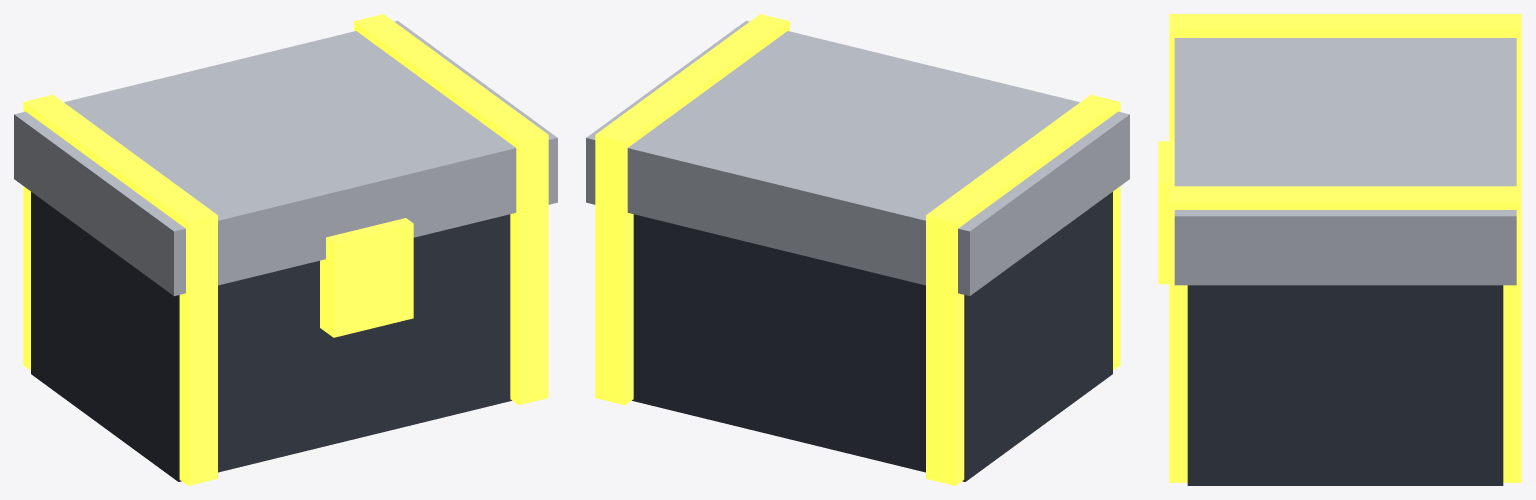
Rendered from chest.fbx.
3 renders of one model, left to right at view 1: azimuth 30°, elevation 25°; view 2: azimuth 150°, elevation 25°; view 3: azimuth 270°, elevation 25°, orthographic. The views are drawn at different scales.
Visible parts, largest first — view 1: SM_chest_MAT_HullGrey, SM_chest_MAT_HullDark, SM_chest_MAT_GlowGold; view 2: SM_chest_MAT_HullDark, SM_chest_MAT_HullGrey, SM_chest_MAT_GlowGold; view 3: SM_chest_MAT_HullGrey, SM_chest_MAT_HullDark, SM_chest_MAT_GlowGold.
Part boxes in pixels (x1=…): SM_chest_MAT_HullGrey: x1=14, y1=21, x2=557, y2=296; SM_chest_MAT_HullDark: x1=31, y1=192, x2=511, y2=481; SM_chest_MAT_GlowGold: x1=23, y1=14, x2=548, y2=485; SM_chest_MAT_HullDark: x1=632, y1=192, x2=1112, y2=481; SM_chest_MAT_HullGrey: x1=586, y1=21, x2=1129, y2=296; SM_chest_MAT_GlowGold: x1=595, y1=14, x2=1120, y2=485; SM_chest_MAT_HullGrey: x1=1174, y1=38, x2=1516, y2=285; SM_chest_MAT_HullDark: x1=1187, y1=285, x2=1503, y2=485; SM_chest_MAT_GlowGold: x1=1158, y1=14, x2=1521, y2=482.
Bounding box in the file's own units: 1.01 × 0.6664 × 0.7742.
